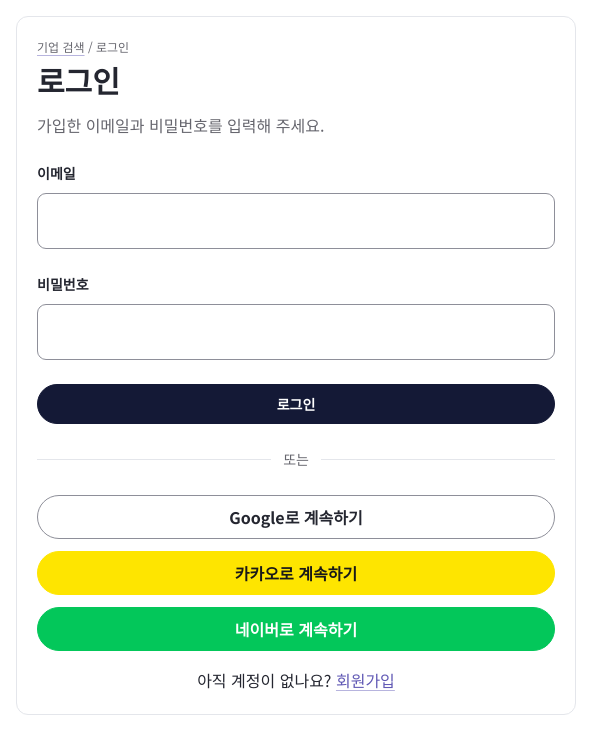
Test: 일반 로그인 화면 › 인증 실패는 계정 존재 여부를 구분하지 않는 안내를 보여 준다
Type "Member@Example.com" into the field labelled "이메일" at (296, 221), box x1=37 y1=193 x2=555 y2=249
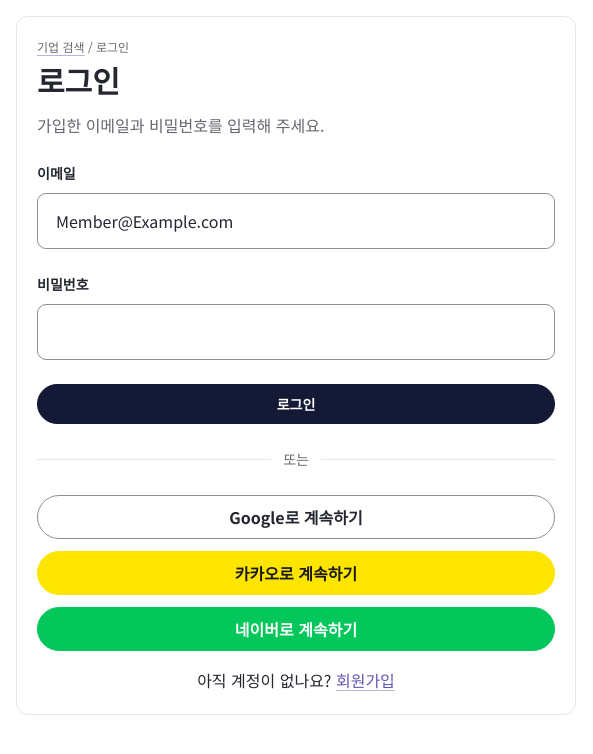
Type "Sample!password" into the password field labelled "비밀번호" at (296, 332), box x1=37 y1=304 x2=555 y2=360
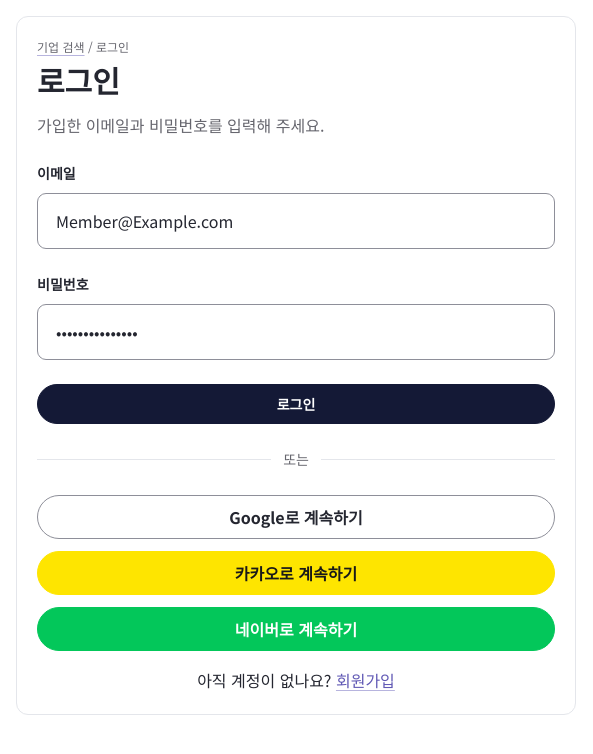
Click the button "로그인" at (296, 404), box x1=37 y1=384 x2=555 y2=424
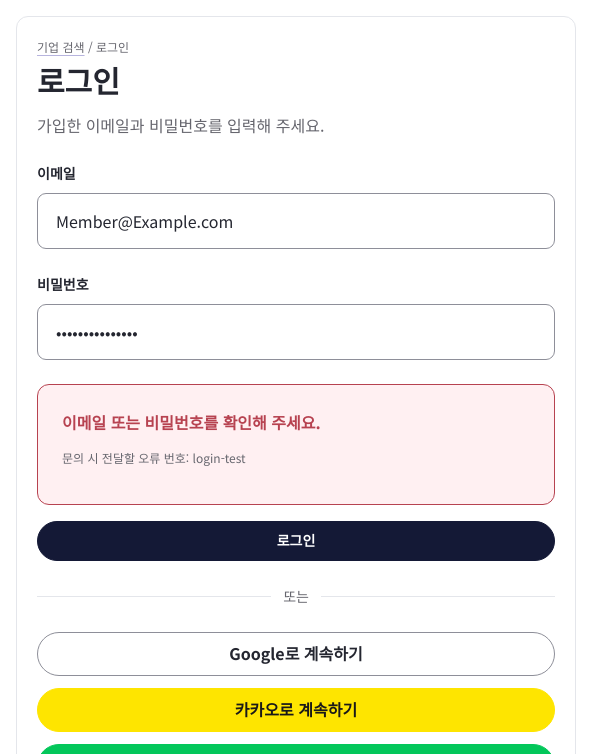
Expected: the text "이메일 또는 비밀번호를 확인해 주세요." is shown, x1=62 y1=410 x2=321 y2=434
Expected: the text "문의 시 전달할 오류 번호: login-test" is shown, x1=62 y1=449 x2=246 y2=466
